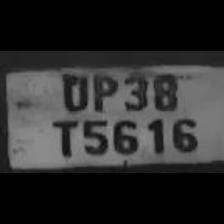1: (142, 113, 168, 155)
3: (117, 68, 149, 112)
5: (78, 117, 108, 157)
6: (167, 113, 201, 153), (109, 115, 141, 155)
8: (148, 70, 180, 112)
P: (88, 70, 118, 112)
T: (47, 115, 79, 157)
U: (56, 68, 90, 110)
